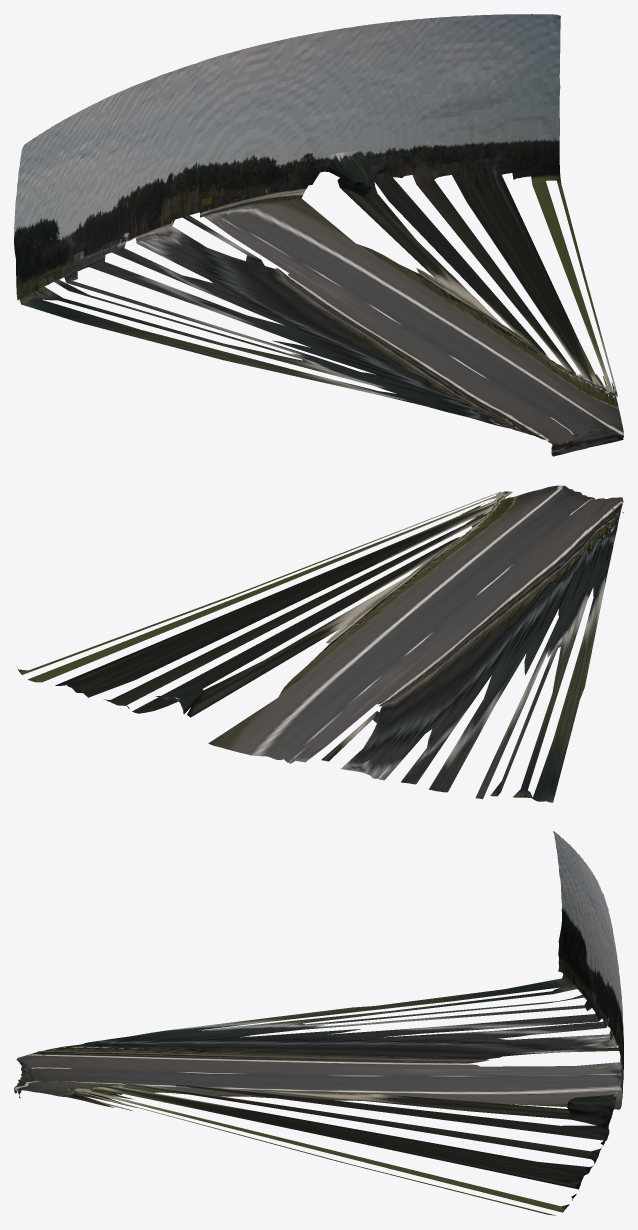
3 renders of one model, top to bottom at view 1: azimuth 30°, elevation 25°; view 2: azimuth 150°, elevation 25°; view 3: azimuth 270°, elevation 25°, orthographic. The views are drawn at different scales.
Visible parts, largest first — view 1: defaultobject; view 2: defaultobject; view 3: defaultobject.
Boxes of the visible parts, x1,y1,x2,y2 form: defaultobject: [14, 14, 623, 456]; defaultobject: [17, 485, 623, 802]; defaultobject: [14, 831, 623, 1215].
Size of the model in its own units: 41.14 by 12.9 by 44.37.
Materials: 1 (1 with a texture image).
